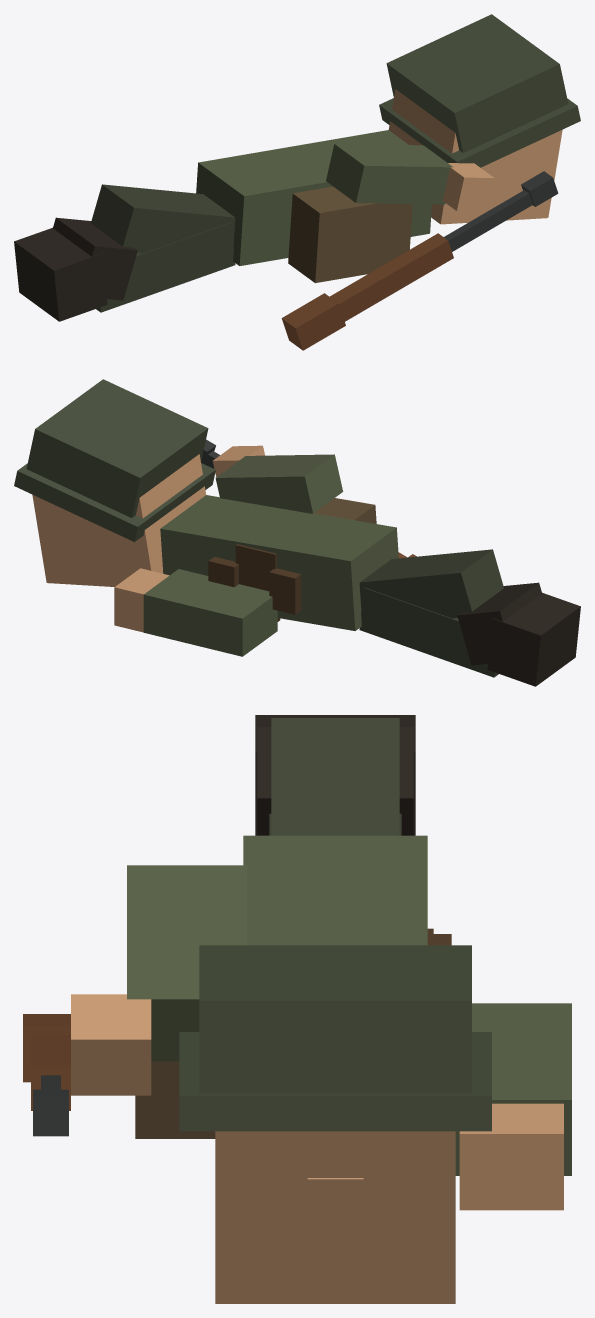
Rendered from Soldado derrotado.obj.
The picture shows the model from 3 angles, top to bottom: view 1: azimuth 30°, elevation 25°; view 2: azimuth 150°, elevation 25°; view 3: azimuth 270°, elevation 25°; orthographic projection. The views are drawn at different scales.
Parts seen in each view (by area): view 1: Casco_Copa, Torso_Uniforme, Mochila, Pierna_Derecha, Brazo_Derecho, Bota_Izquierda, Cabeza, Pierna_Izquierda, Fusil_Cuerpo, Casco_Visera, Bota_Derecha, Fusil_Culata (+3 smaller); view 2: Torso_Uniforme, Casco_Copa, Cabeza, Brazo_Izquierdo, Pierna_Derecha, Bota_Izquierda, Brazo_Derecho, Pierna_Izquierda, Casco_Visera, Bota_Derecha, Mano_Izquierda, Cinturon (+4 smaller); view 3: Casco_Copa, Cabeza, Torso_Uniforme, Brazo_Derecho, Pierna_Derecha, Casco_Visera, Mano_Izquierda, Brazo_Izquierdo, Mano_Derecha, Mochila, Bota_Derecha, Nariz (+4 smaller).
Part boxes in pixels (x1,y1,x2,y2): Casco_Copa: [386, 14, 568, 152]; Torso_Uniforme: [196, 130, 431, 265]; Mochila: [288, 186, 412, 283]; Pierna_Derecha: [91, 184, 235, 253]; Brazo_Derecho: [326, 143, 452, 204]; Bota_Izquierda: [14, 227, 107, 321]; Cabeza: [388, 89, 562, 224]; Pierna_Izquierda: [96, 222, 235, 312]; Fusil_Cuerpo: [329, 233, 453, 321]; Casco_Visera: [379, 98, 580, 167]; Bota_Derecha: [53, 217, 137, 300]; Fusil_Culata: [281, 293, 345, 350]; Torso_Uniforme: [160, 495, 398, 630]; Casco_Copa: [26, 379, 208, 517]; Cabeza: [32, 454, 206, 586]; Brazo_Izquierdo: [143, 569, 277, 656]; Pierna_Derecha: [359, 549, 503, 618]; Bota_Izquierda: [487, 592, 580, 686]; Brazo_Derecho: [215, 454, 343, 513]; Pierna_Izquierda: [359, 587, 498, 677]; Casco_Visera: [14, 463, 215, 541]; Bota_Derecha: [457, 582, 541, 665]; Mano_Izquierda: [114, 568, 169, 632]; Cinturon: [235, 544, 280, 621]; Casco_Copa: [199, 945, 471, 1093]; Cabeza: [215, 1131, 455, 1303]; Torso_Uniforme: [243, 835, 427, 945]; Brazo_Derecho: [127, 865, 247, 1061]; Pierna_Derecha: [271, 718, 399, 835]; Casco_Visera: [179, 1032, 491, 1131]; Mano_Izquierda: [459, 1103, 563, 1210]; Brazo_Izquierdo: [455, 1003, 571, 1175]; Mano_Derecha: [71, 994, 151, 1095]; Mochila: [135, 1061, 215, 1138]; Bota_Derecha: [257, 727, 413, 835]; Nariz: [307, 1178, 363, 1222].
Bounding box in the file's own units: 1.83 × 0.623 × 0.8563.
1 material, 1 textured.
